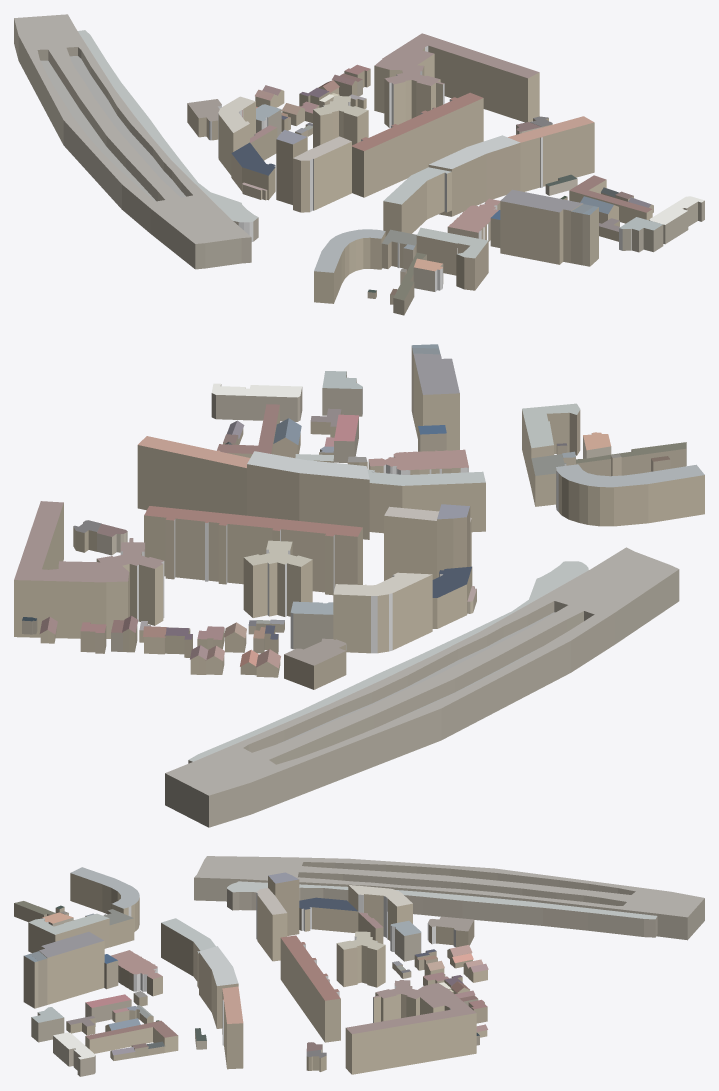
The picture shows the model from 3 angles, top to bottom: view 1: azimuth 30°, elevation 25°; view 2: azimuth 150°, elevation 25°; view 3: azimuth 270°, elevation 25°; orthographic projection. The views are drawn at different scales.
Visible parts, largest first — view 1: tuile; view 2: tuile; view 3: tuile.
Boxes of the visible parts, left/top/right/bottom form: tuile: left=14, top=14, right=704, bottom=315; tuile: left=14, top=344, right=704, bottom=827; tuile: left=14, top=856, right=704, bottom=1076.
Bounding box in the file's own units: 251 × 43.48 × 380.
